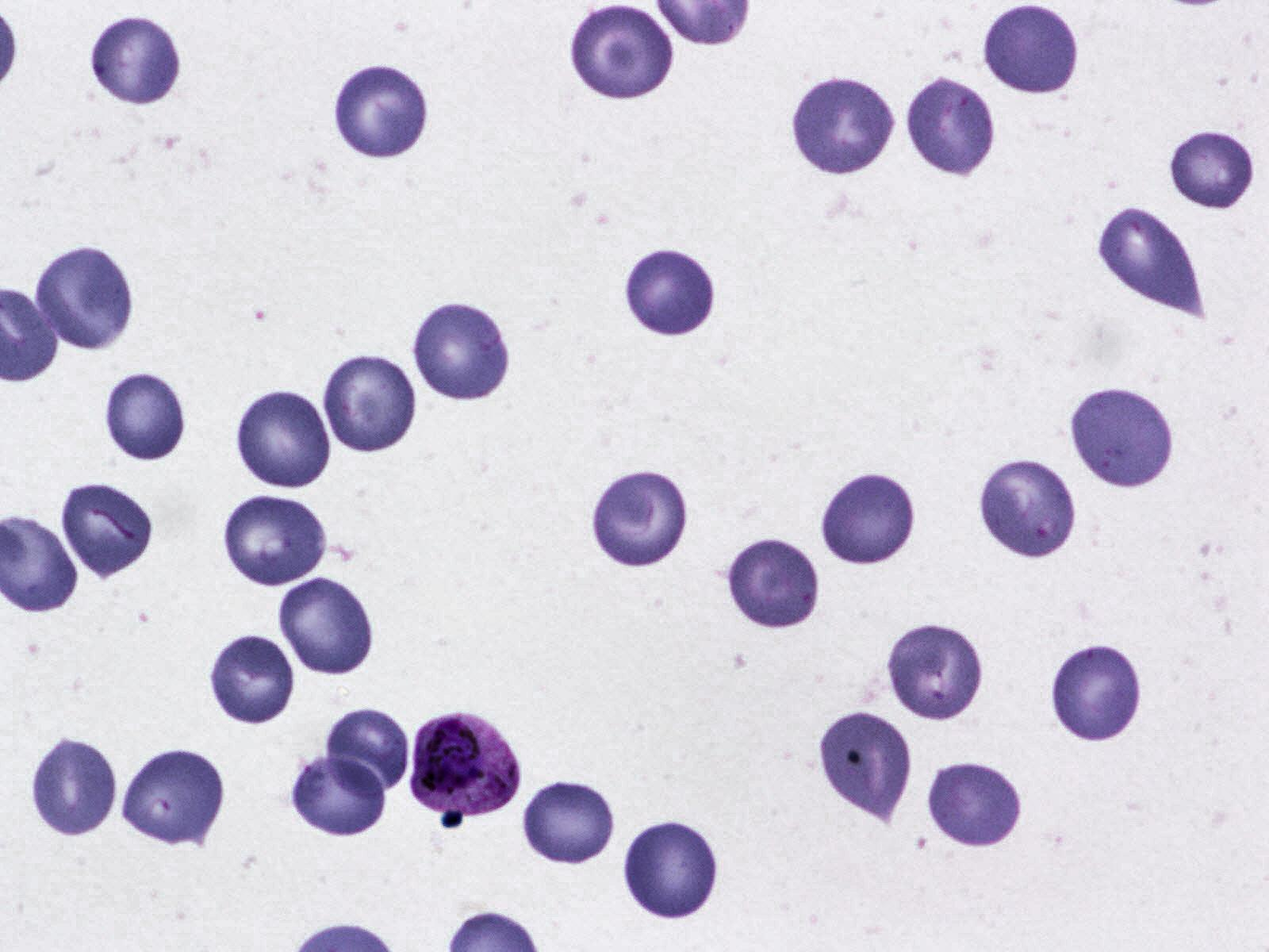Infected: (408, 712, 523, 818)
Uninfected: (786, 71, 897, 184), (1098, 207, 1206, 321), (876, 622, 981, 727), (976, 459, 1081, 562), (589, 466, 691, 572), (32, 244, 134, 350), (565, 6, 677, 102), (232, 387, 335, 491), (1068, 387, 1173, 489), (817, 710, 916, 818), (410, 301, 511, 402), (120, 747, 223, 846), (278, 576, 375, 681), (221, 494, 329, 588), (320, 353, 418, 455), (622, 820, 719, 920), (1048, 643, 1144, 744), (724, 536, 826, 631), (58, 478, 152, 581), (29, 734, 120, 839), (332, 63, 430, 159), (902, 78, 996, 178), (822, 470, 918, 567), (287, 751, 393, 835), (929, 758, 1026, 849), (91, 12, 182, 108), (982, 6, 1079, 96), (523, 777, 616, 867), (626, 248, 719, 336), (210, 635, 293, 731), (326, 711, 410, 799), (1171, 127, 1256, 210), (106, 374, 186, 460)
